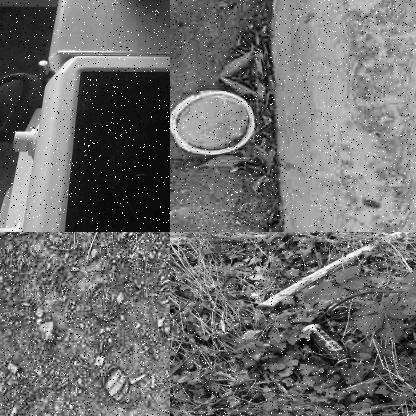metal: (301, 323, 353, 372), (309, 284, 350, 324)
plastic: (170, 84, 265, 162)
